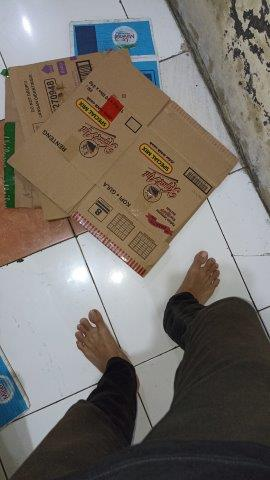kardus: (7, 19, 237, 274)
